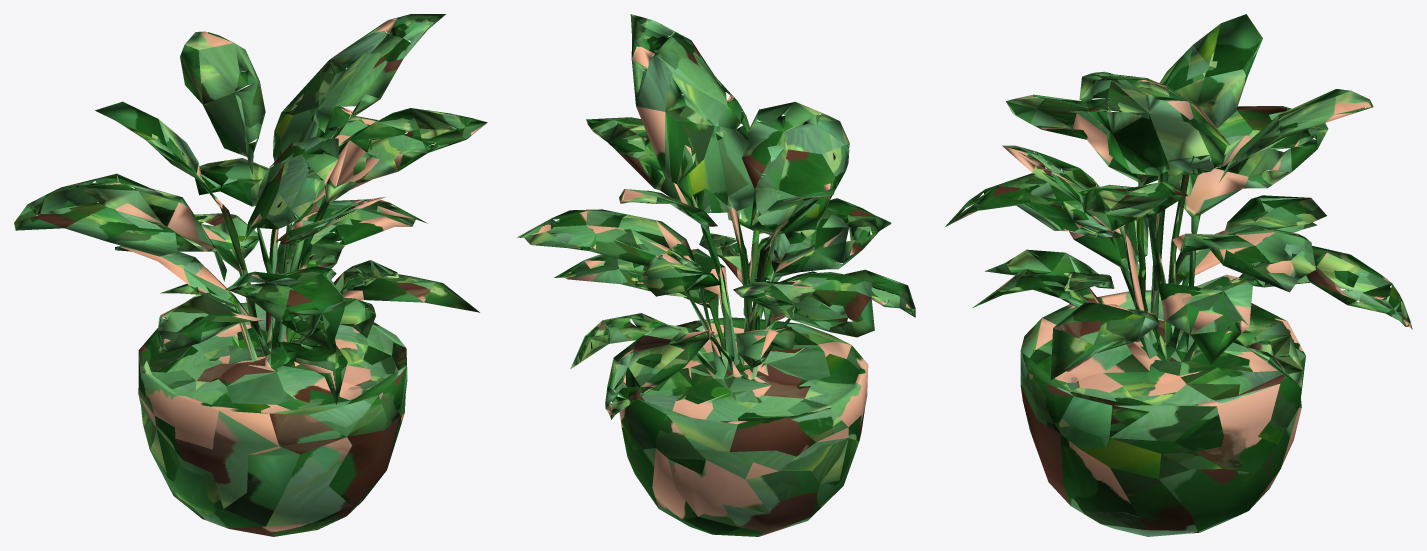
The model's file is plantadeco1.obj.
3 views of the same model, side by side, from view 1: azimuth 30°, elevation 25°; view 2: azimuth 150°, elevation 25°; view 3: azimuth 270°, elevation 25° (orthographic). The views are drawn at different scales.
Visible parts, largest first — view 1: Mesh_0; view 2: Mesh_0; view 3: Mesh_0.
Boxes of the visible parts, x1,y1,x2,y2 form: Mesh_0: [14, 14, 487, 536]; Mesh_0: [517, 14, 915, 536]; Mesh_0: [945, 14, 1412, 536].
Bounding box in the file's own units: 1.7 × 1.99 × 1.68.
